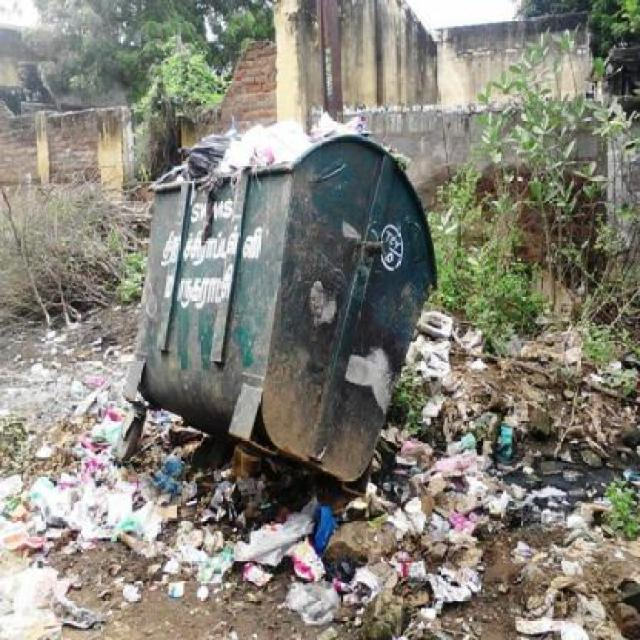garbage: (6, 327, 640, 640), (143, 120, 417, 254), (411, 305, 457, 336)
